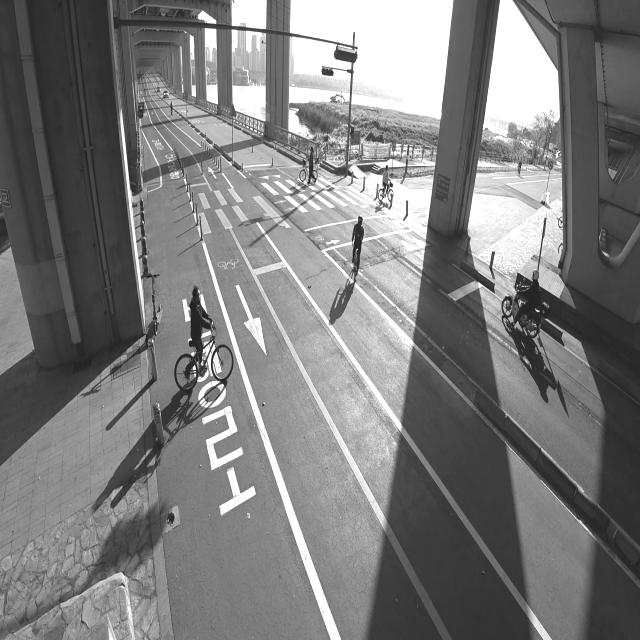Car: (162, 89, 170, 101), (154, 84, 159, 95)
Motorcycle: (501, 268, 549, 338)
